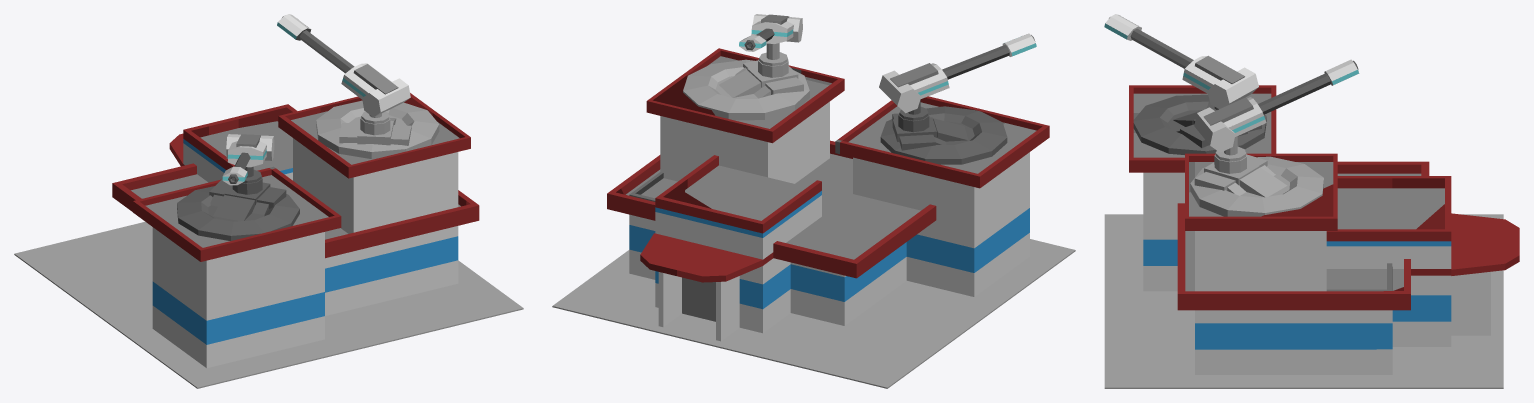
Rendered from TurretB_LVL1.fbx.
3 views of the same model, side by side, from view 1: azimuth 30°, elevation 25°; view 2: azimuth 150°, elevation 25°; view 3: azimuth 270°, elevation 25° (orthographic). The views are drawn at different scales.
Parts seen in each view (by area): view 1: pCube3, Turret_Lvl2:pCylinder7, Turret_Lvl1:pCylinder7, Turret_Lvl2:pCube8, Turret_Lvl4:pCube8; view 2: pCube3, Turret_Lvl1:pCylinder7, Turret_Lvl2:pCylinder7, Turret_Lvl4:pCube8, Turret_Lvl2:pCube8; view 3: pCube3, Turret_Lvl1:pCylinder7, Turret_Lvl2:pCylinder7, Turret_Lvl2:pCube8, Turret_Lvl4:pCube8.
Part boxes in pixels (<box>): pCube3: <box>14,93,523,388</box>; Turret_Lvl2:pCylinder7: <box>177,166,299,240</box>; Turret_Lvl1:pCylinder7: <box>316,100,439,159</box>; Turret_Lvl2:pCube8: <box>277,14,410,117</box>; Turret_Lvl4:pCube8: <box>222,134,274,185</box>; pCube3: <box>552,48,1075,388</box>; Turret_Lvl1:pCylinder7: <box>683,43,809,120</box>; Turret_Lvl2:pCylinder7: <box>880,99,1007,164</box>; Turret_Lvl4:pCube8: <box>879,33,1036,113</box>; Turret_Lvl2:pCube8: <box>739,14,802,51</box>; pCube3: <box>1104,85,1519,388</box>; Turret_Lvl1:pCylinder7: <box>1190,136,1323,216</box>; Turret_Lvl2:pCylinder7: <box>1133,94,1266,154</box>; Turret_Lvl2:pCube8: <box>1194,59,1359,152</box>; Turret_Lvl4:pCube8: <box>1104,14,1258,109</box>.
Size of the model in its own units: 22.78 by 16.08 by 23.08.
